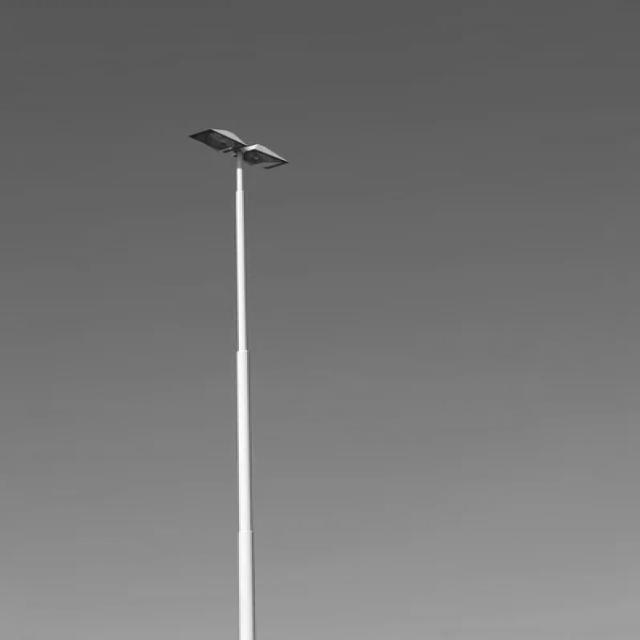Pole: (189, 129, 287, 640)
